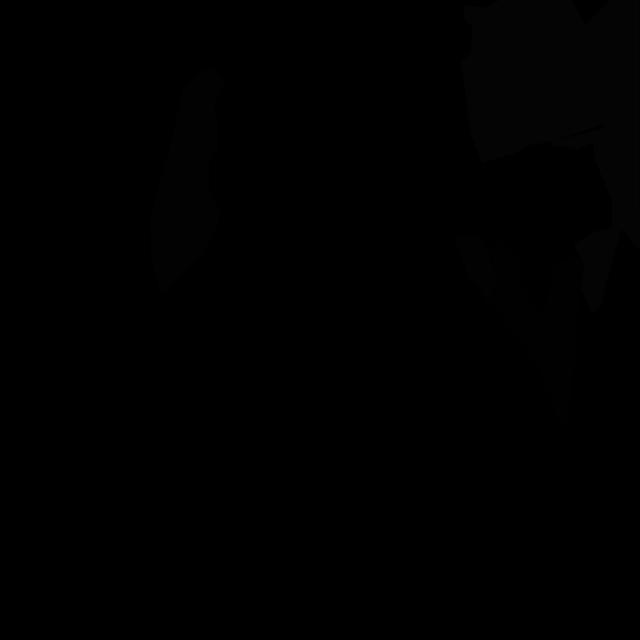cardboard: (150, 67, 225, 294), (452, 236, 496, 304)
rigid_plastic: (538, 253, 584, 426), (489, 239, 544, 366)
soft_plastic: (550, 0, 640, 314), (462, 0, 603, 163)
